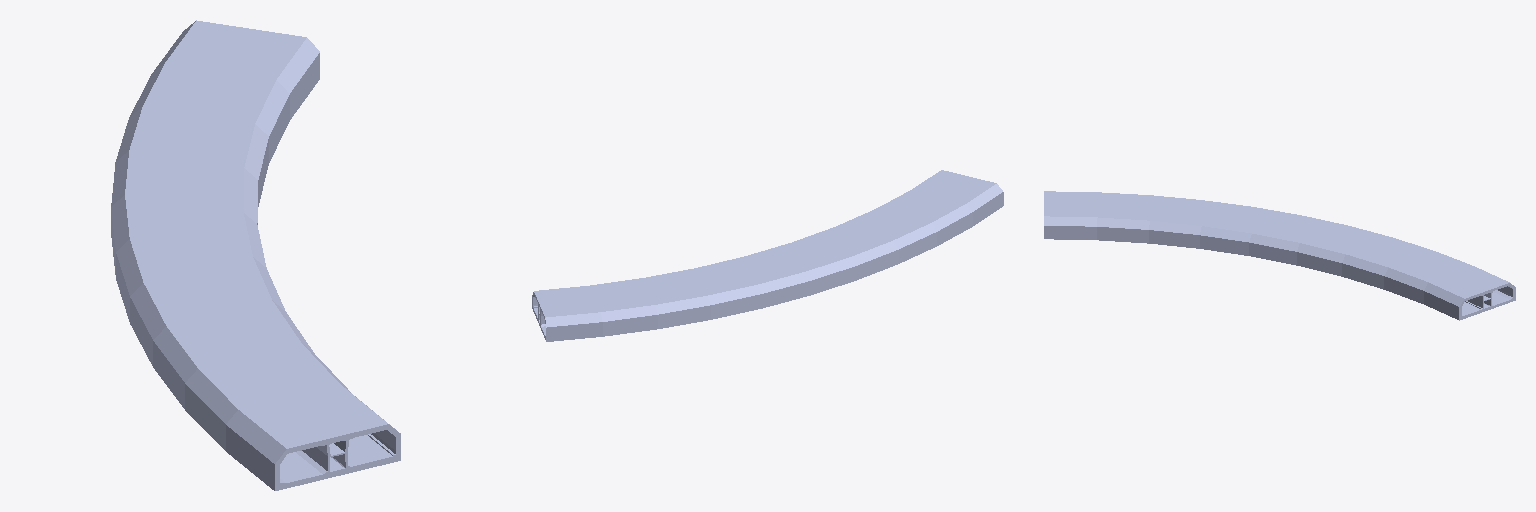
The robot description file, URDF, robot "wansuidao1":
<?xml version="1.0" encoding="utf-8"?>
<!-- This URDF was automatically created by SolidWorks to URDF Exporter! Originally created by [author] ([email redacted]) 
     Commit Version: 1.5.1-0-g916b5db  Build Version: 1.5.7152.31018
     For more information, please see http://wiki.ros.org/sw_urdf_exporter -->
<robot
  name="wansuidao1">
  <link
    name="suidaos">
    <inertial>
      <origin
        xyz="0 0 0"
        rpy="0 0 0" />
      <mass
        value="40" />
      <inertia
        ixx="183460000000"
        ixy="10911000"
        ixz="81167000000"
        iyy="228180000000"
        iyz="5064200"
        izz="46253000000" />
    </inertial>
    <visual>
      <origin
        xyz="0 0 0"
        rpy="0 0 0" />
      <geometry>
        <mesh
          filename="package://wansuidao1/meshes/suidaos.STL" />
      </geometry>
      <material
        name="">
        <color
          rgba="0.79216 0.81961 0.93333 1" />
      </material>
    </visual>
    <collision>
      <origin
        xyz="0 0 0"
        rpy="0 0 0" />
      <geometry>
        <mesh
          filename="package://wansuidao1/meshes/suidaos.STL" />
      </geometry>
    </collision>
  </link>
</robot>

--- What the picture shows (computed from the rendered views, not written in the file) ---
3 views of the same robot in one strip: view 1: azimuth 30°, elevation 25°; view 2: azimuth 150°, elevation 25°; view 3: azimuth 270°, elevation 25° (orthographic).
Model wansuidao1 with 1 links and 0 joints (none), rooted at suidaos, posed every joint at zero.
Visible links, largest first — view 1: suidaos; view 2: suidaos; view 3: suidaos.
Boxes of the visible links, x1=… form: suidaos: x1=111, y1=20, x2=400, y2=490; suidaos: x1=532, y1=170, x2=1003, y2=341; suidaos: x1=1044, y1=191, x2=1515, y2=320.
Bounding box of the posed robot: 138 × 244 × 11.4 m (x, y, z).
1 mesh visuals loaded from 1 distinct referenced files (1 binary STL).
